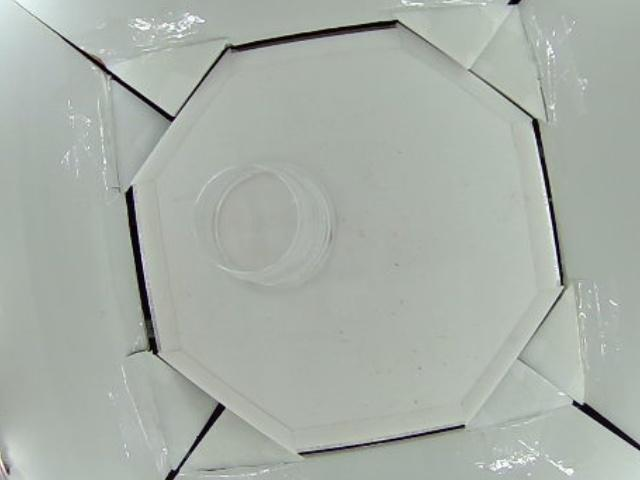Cup: (192, 162, 338, 288)
